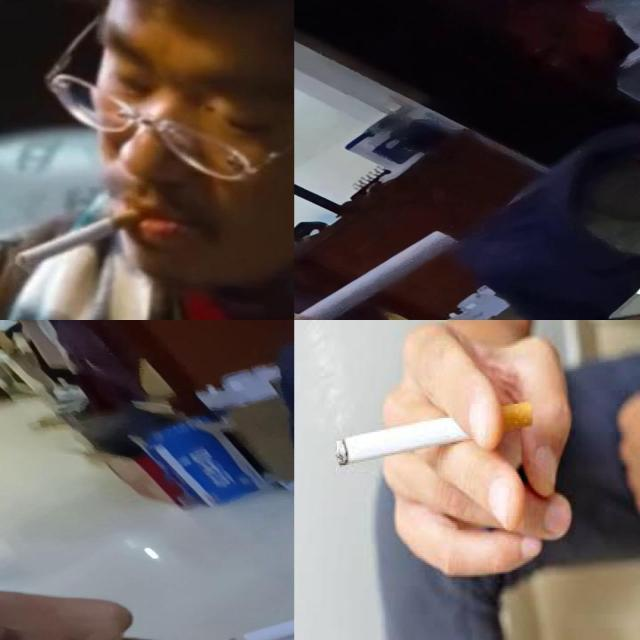smoking: (294, 228, 464, 320), (336, 402, 532, 468), (15, 207, 147, 271), (178, 588, 294, 640)
